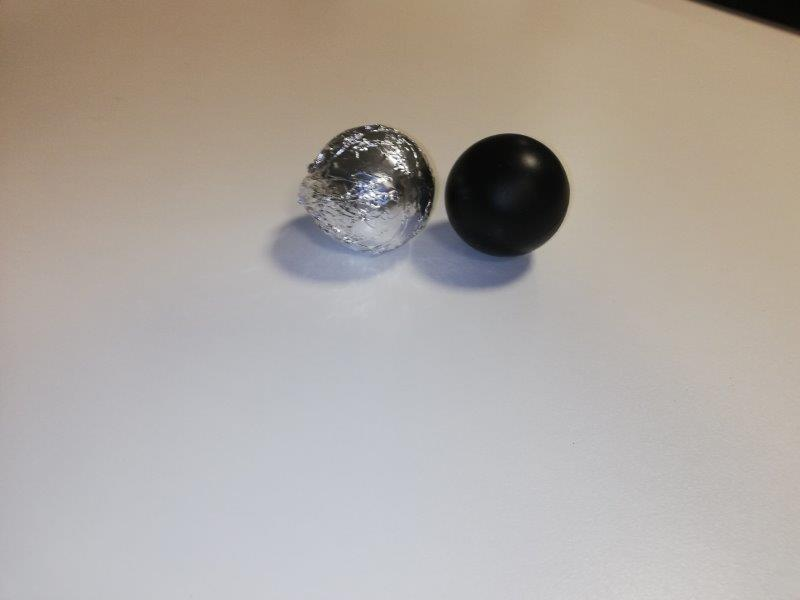bianca: (301, 123, 435, 250)
nera: (444, 135, 569, 258)
